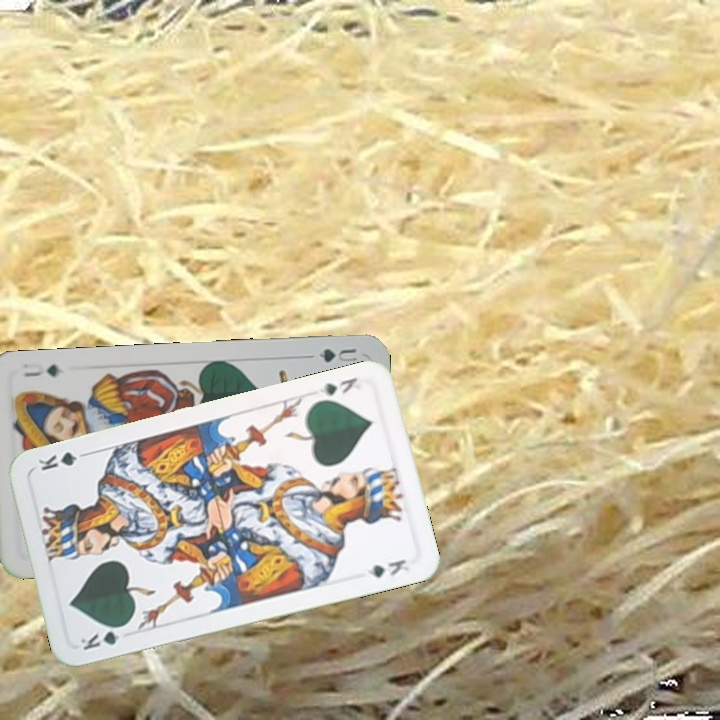GK: (76, 620, 131, 653), (315, 373, 360, 398)
GU: (314, 344, 360, 366)
